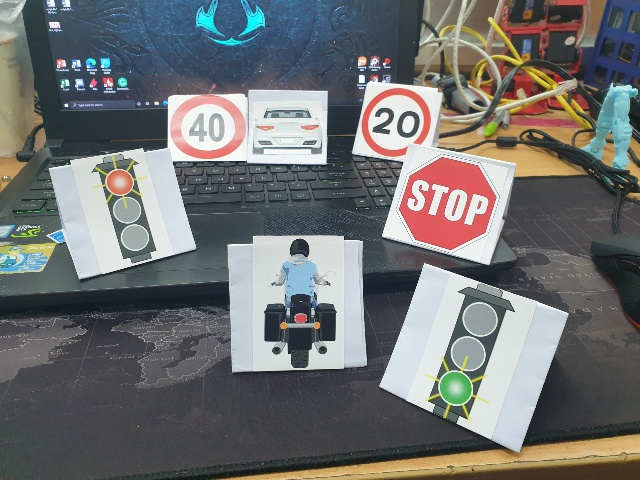Car: (251, 109, 323, 155)
Green Light: (432, 282, 515, 431)
Limit 20: (362, 89, 430, 159)
Limit 40: (170, 96, 246, 162)
Motorcycle: (258, 241, 338, 371)
Red Light: (93, 153, 161, 263)
Stop: (402, 158, 499, 250)
